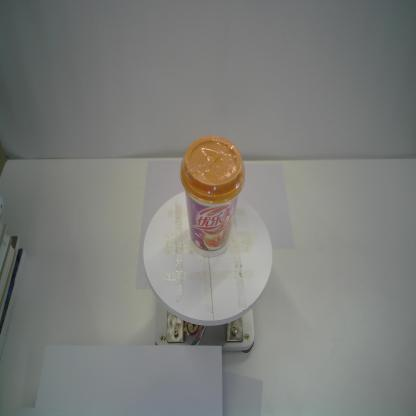Instant Drink: (180, 134, 246, 258)
